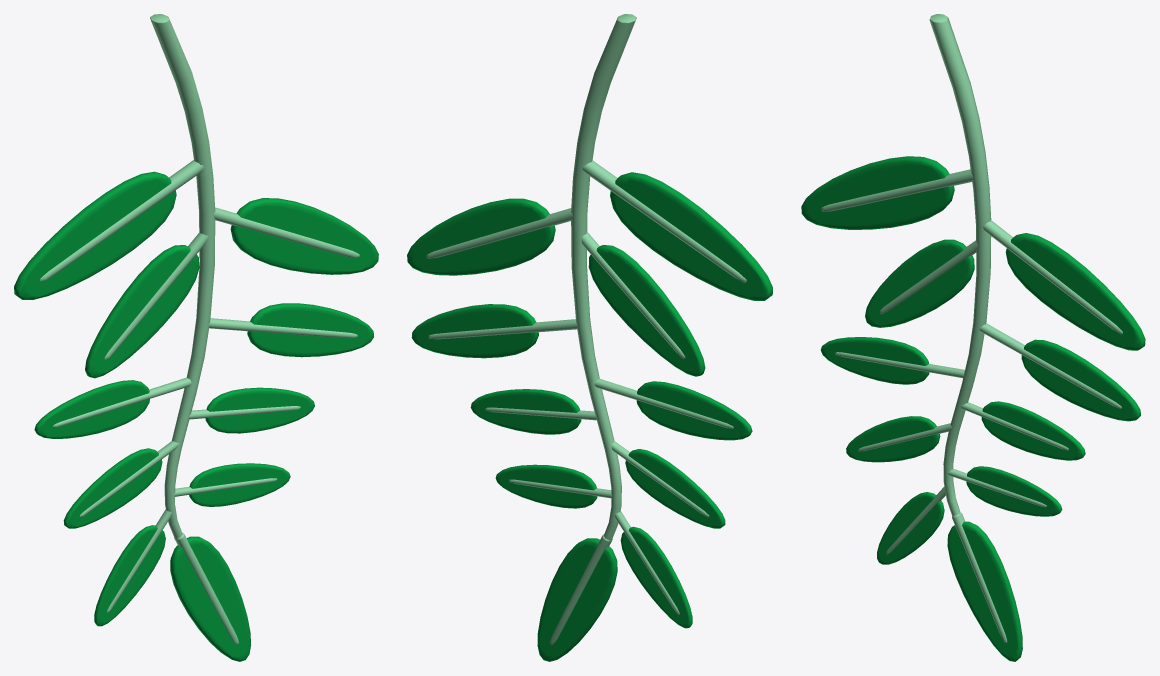
Rendered from Town_17_Liana_2.glb.
The picture shows the model from 3 angles, left to right: view 1: azimuth 30°, elevation 25°; view 2: azimuth 150°, elevation 25°; view 3: azimuth 330°, elevation 25°; orthographic projection. The views are drawn at different scales.
Parts seen in each view (by area): view 1: Town_17_Liana_2; view 2: Town_17_Liana_2; view 3: Town_17_Liana_2.
Boxes of the visible parts, x1,y1,x2,y2 form: Town_17_Liana_2: (14,14,378,661); Town_17_Liana_2: (407,14,772,661); Town_17_Liana_2: (801,14,1145,661).
Size of the model in its own units: 1.12 by 1.95 by 0.0584.
1 material, 1 textured.
